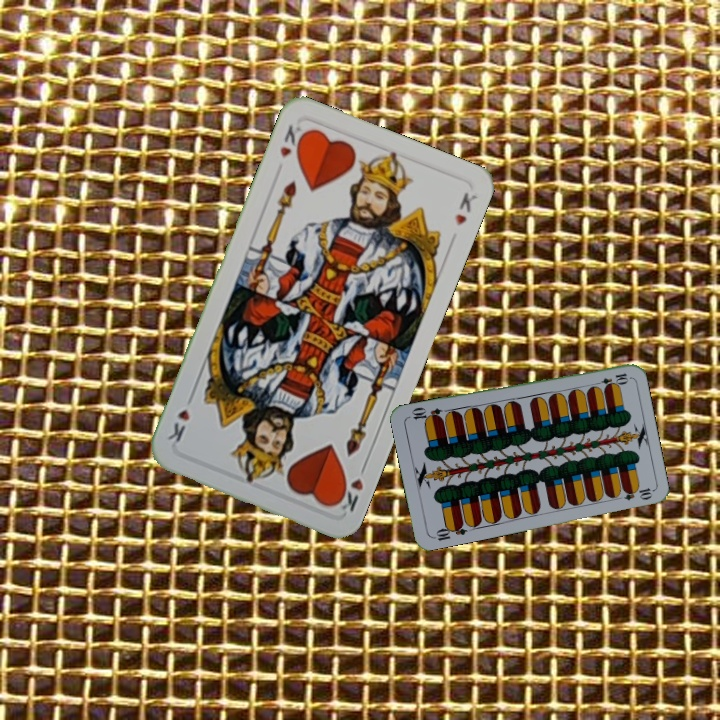E10: (429, 519, 469, 543), (590, 369, 631, 389)
HK: (331, 459, 370, 515), (276, 120, 309, 160)
